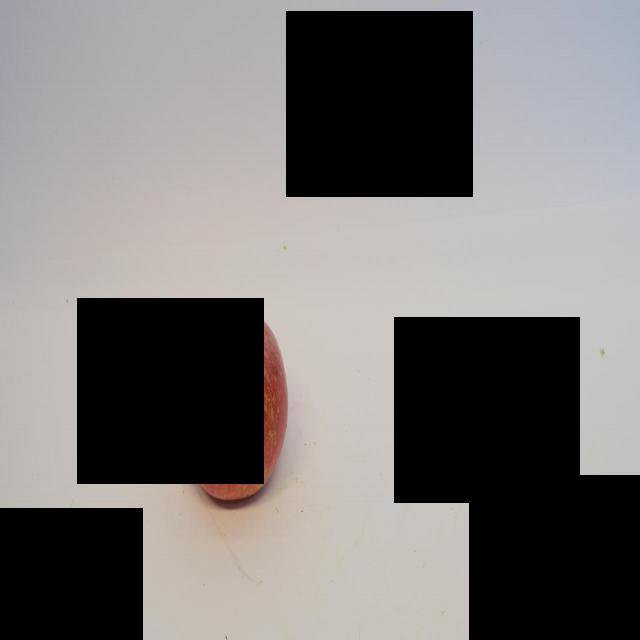apple: (170, 300, 288, 510)
